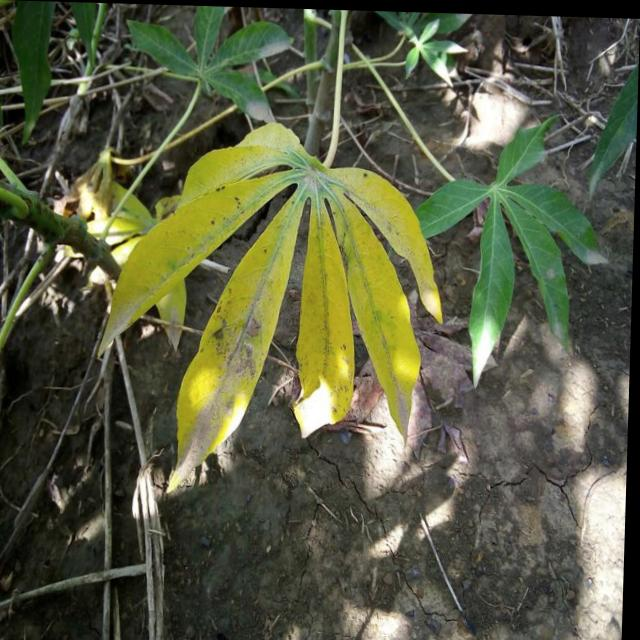Mosaico: (134, 114, 482, 459)
